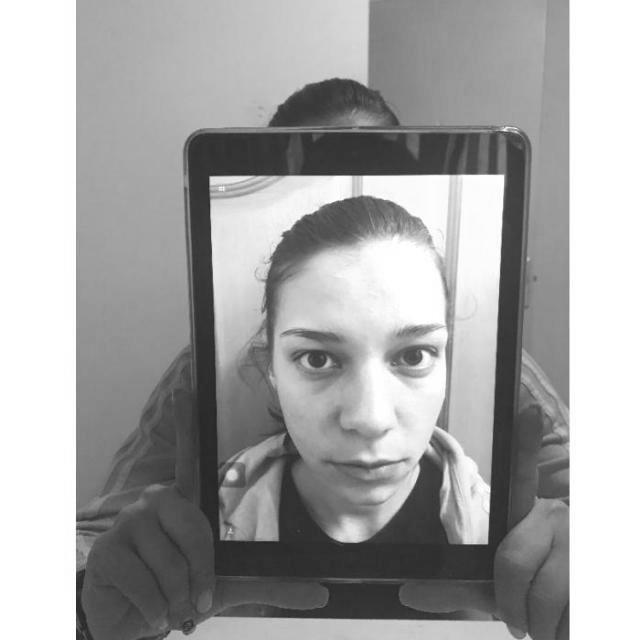fake: (173, 122, 536, 598)
